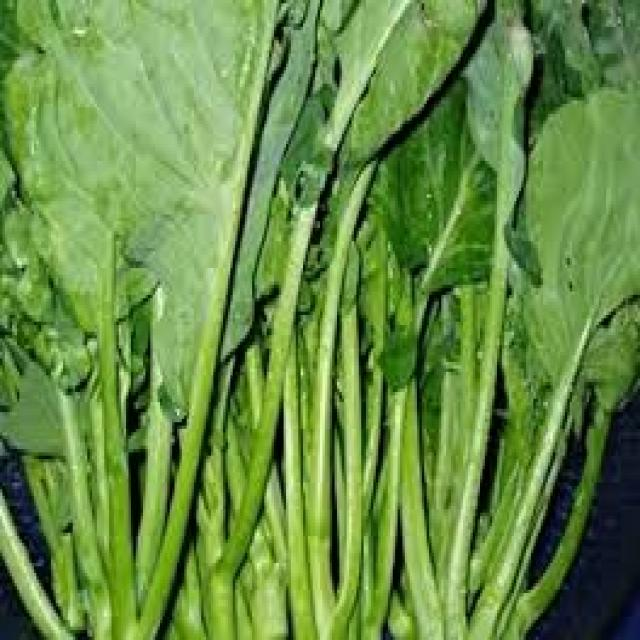collard: (1, 0, 626, 640)
